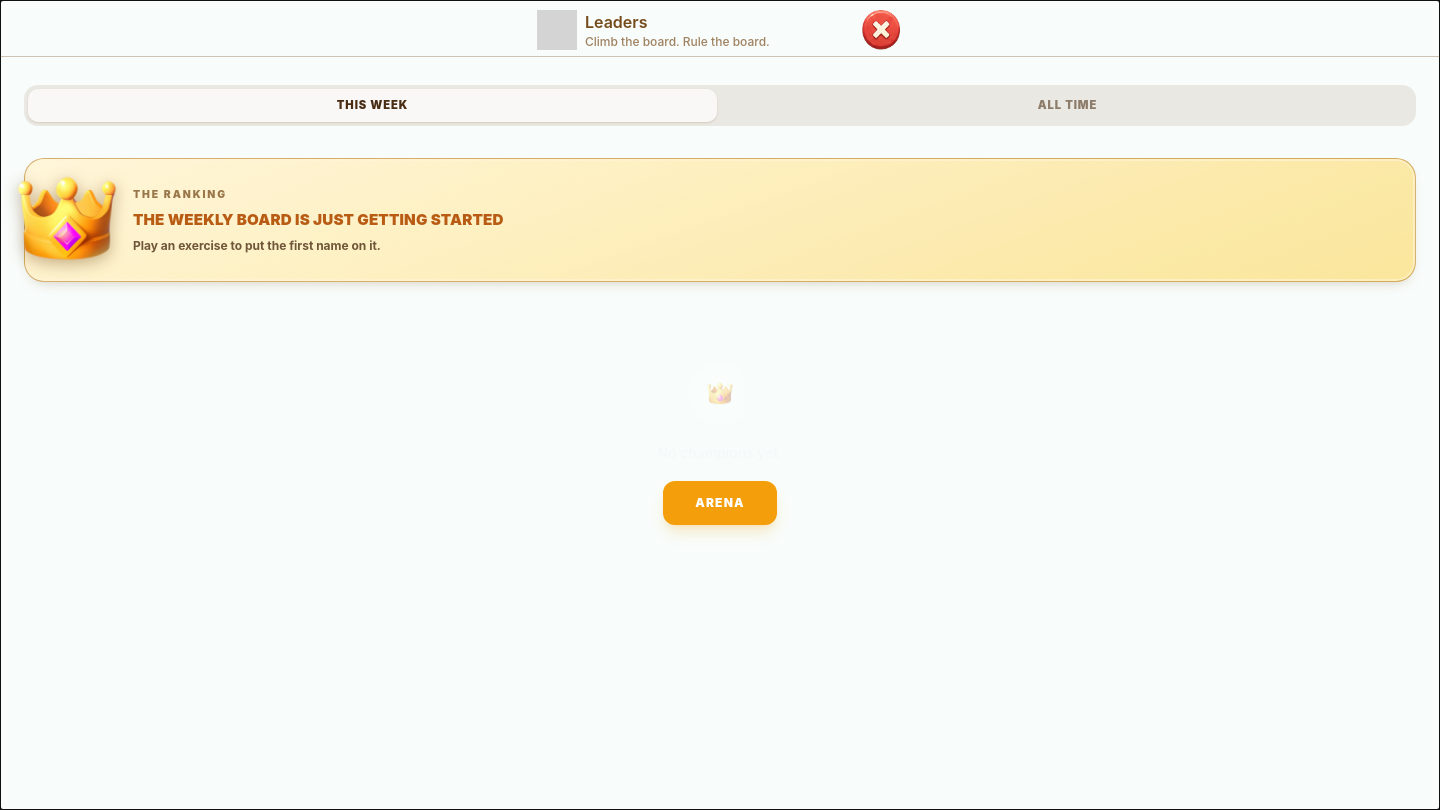
it: cut label above the list › declares the cut on the all-time tab too
Click the tab "ALL TIME": click(1068, 105) left=723, top=89, right=1412, bottom=122
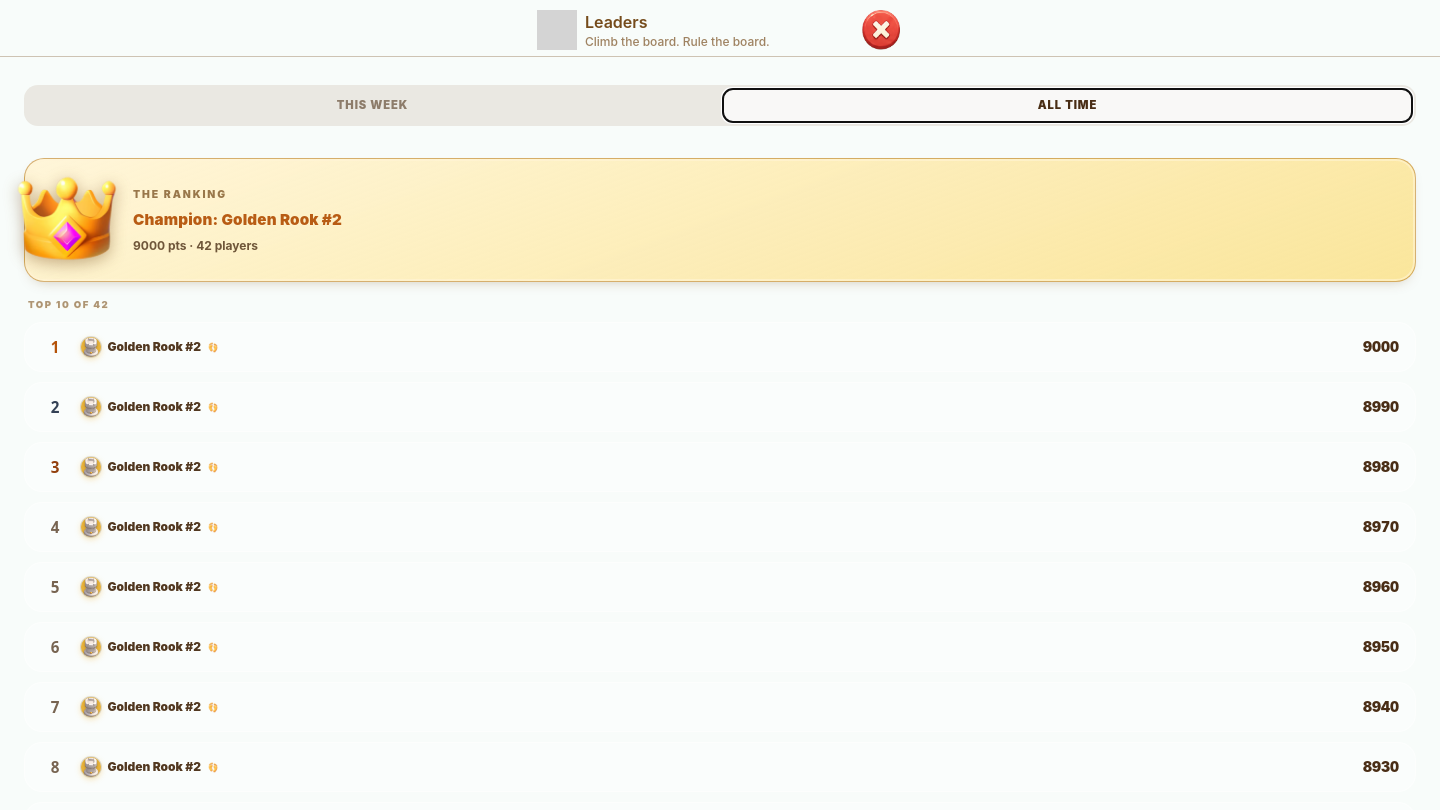
Expected: the text "TOP 10 OF 42" is shown, left=28, top=299, right=109, bottom=310
